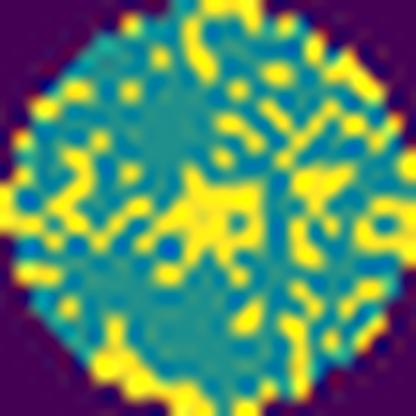Center: (133, 166, 268, 288)
